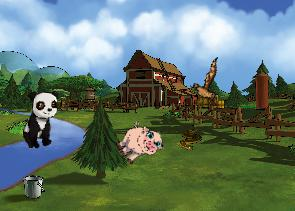eagle: (183, 57, 230, 112)
panda: (21, 88, 60, 151)
pig: (111, 116, 167, 171)
